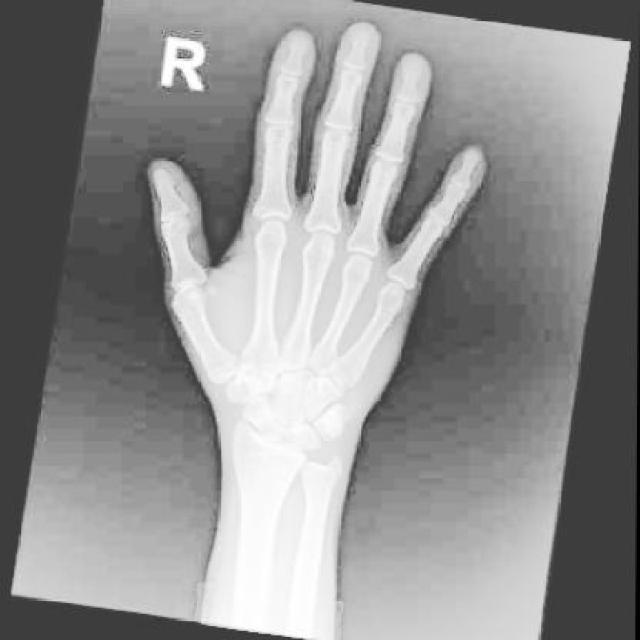Fracture: (237, 406, 277, 444)
